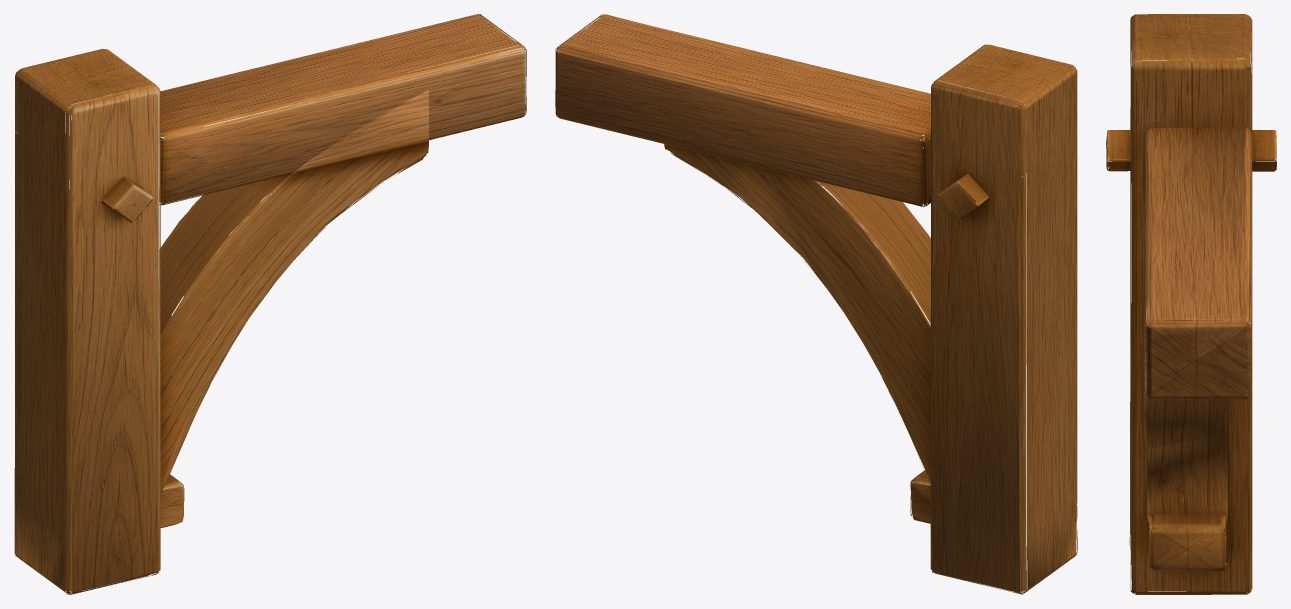
3 views of the same model, side by side, from view 1: azimuth 30°, elevation 25°; view 2: azimuth 150°, elevation 25°; view 3: azimuth 270°, elevation 25° (orthographic). The views are drawn at different scales.
Parts seen in each view (by area): view 1: b03_Oak_beam_bracket; view 2: b03_Oak_beam_bracket; view 3: b03_Oak_beam_bracket.
Boxes of the visible parts, left/top/right/bottom form: b03_Oak_beam_bracket: left=14, top=14, right=526, bottom=594; b03_Oak_beam_bracket: left=555, top=14, right=1077, bottom=594; b03_Oak_beam_bracket: left=1106, top=14, right=1276, bottom=594.
Bounding box in the file's own units: 0.6203 × 0.6198 × 0.179.
Materials: 1 (1 with a texture image).
